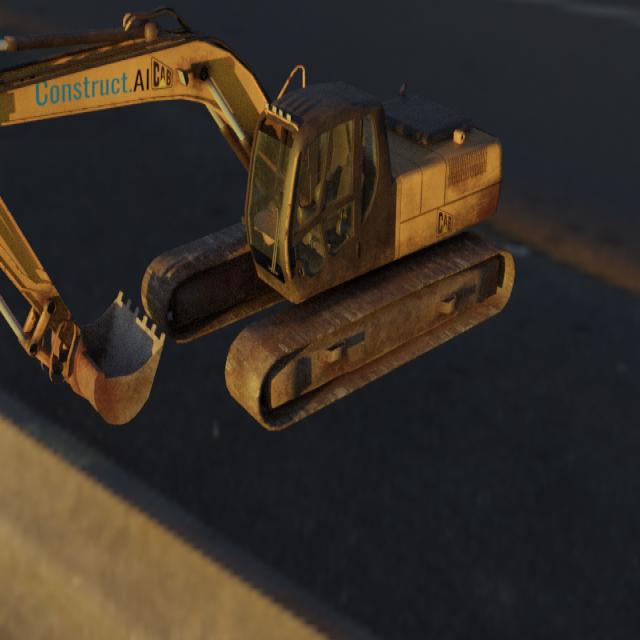excavator: (0, 4, 516, 431)
